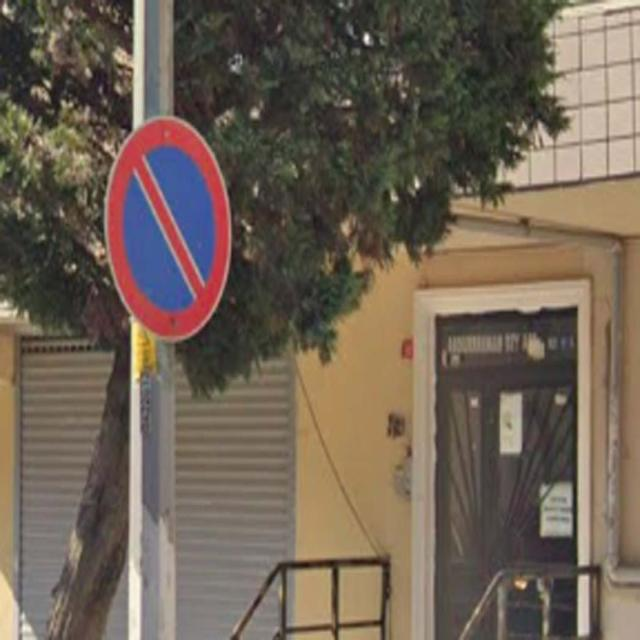parkyasak: (106, 117, 232, 339)
